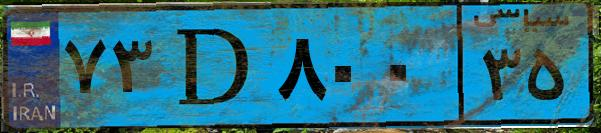0: (385, 28, 445, 110), (330, 28, 385, 110)
3: (475, 38, 525, 113), (110, 28, 158, 98)
5: (525, 38, 570, 115)
7: (57, 26, 110, 100)
8: (270, 28, 330, 110)
D: (158, 12, 270, 120)
